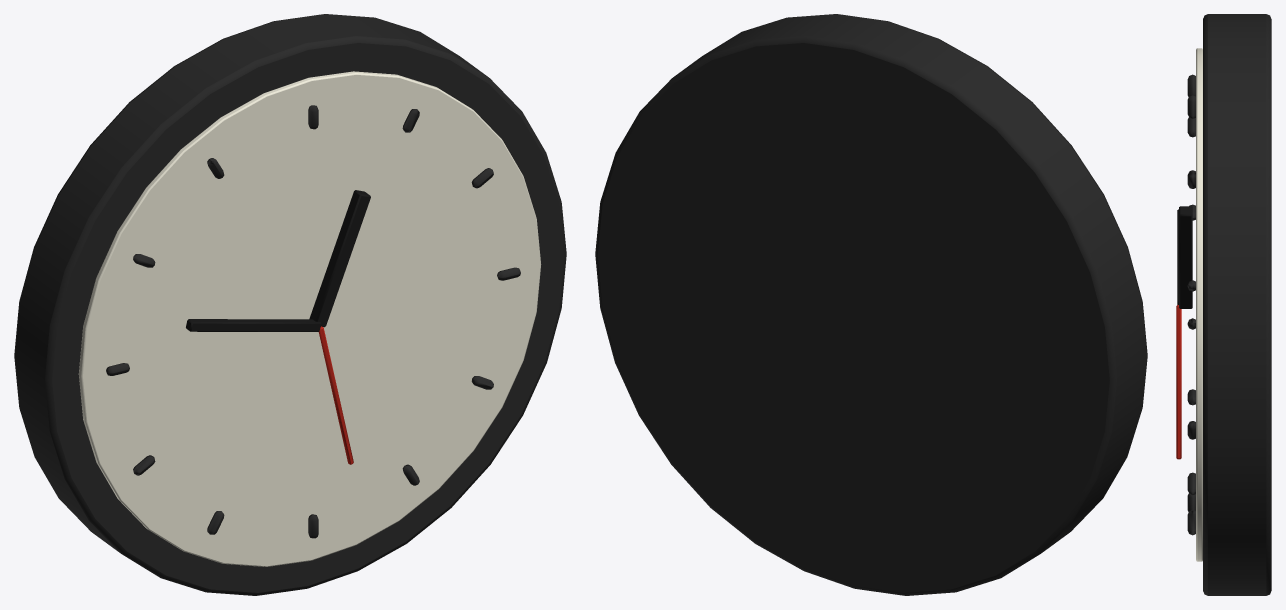
File: DongHoTreo_Tiem.glb
3 views of the same model, side by side, from view 1: azimuth 30°, elevation 25°; view 2: azimuth 150°, elevation 25°; view 3: azimuth 270°, elevation 25° (orthographic). The views are drawn at different scales.
Visible parts, largest first — view 1: DongHoTreo_Tiem; view 2: DongHoTreo_Tiem; view 3: DongHoTreo_Tiem.
Boxes of the visible parts, x1,y1,x2,y2 form: DongHoTreo_Tiem: (14, 14, 566, 595); DongHoTreo_Tiem: (595, 14, 1147, 595); DongHoTreo_Tiem: (1176, 14, 1271, 595).
Size of the model in its own units: 0.34 by 0.34 by 0.0555.
